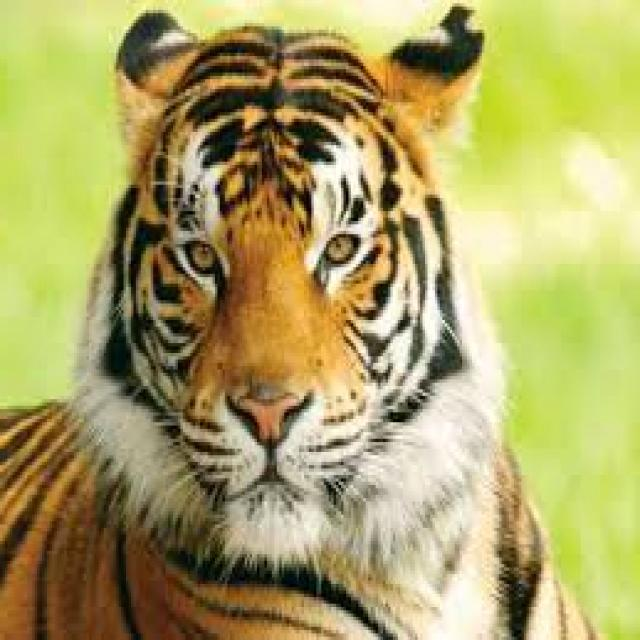tiger: (2, 7, 598, 637)
